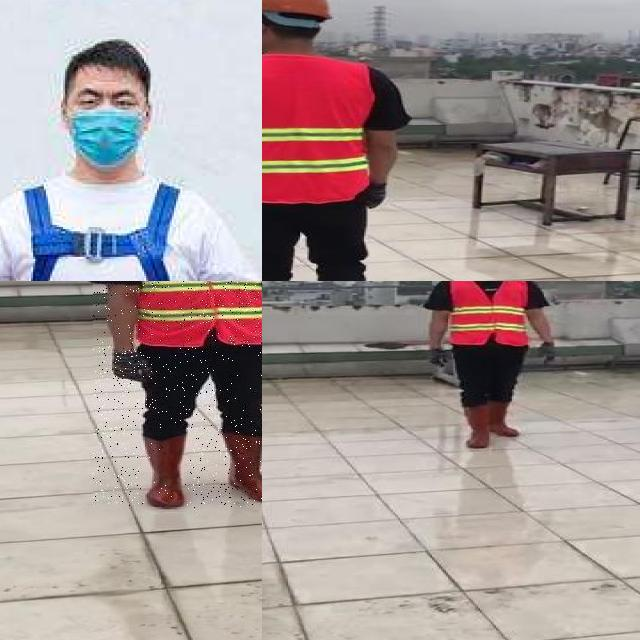Harness: (0, 178, 210, 281)
boots: (140, 430, 188, 507), (219, 430, 262, 503), (458, 401, 492, 449), (489, 397, 524, 438)
hand_glove: (426, 344, 452, 370), (364, 182, 389, 209), (537, 341, 558, 367)
head_helmet: (262, 0, 331, 19)
person: (262, 0, 412, 281), (93, 281, 262, 508), (417, 281, 559, 454)
vest: (262, 55, 371, 201), (125, 281, 262, 347), (448, 281, 528, 347)
